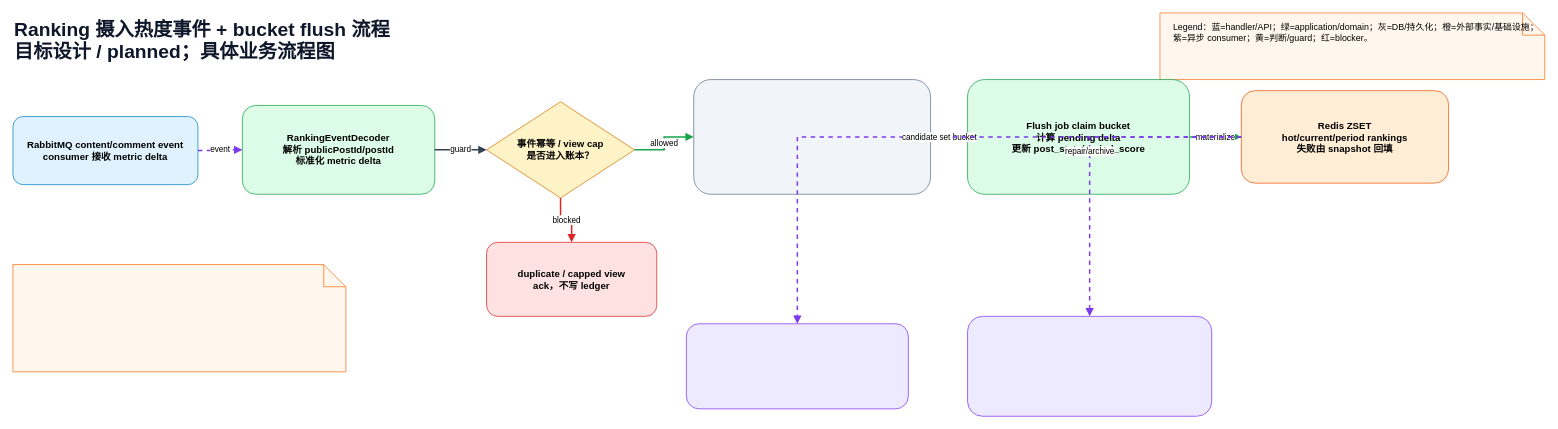
Image size: 1558x429. Some labels were removed from this diagram. Here are the shapes that lost their labels. From the top down, the centre of each, then its label:
point 812,136: PostgreSQL transaction ranking_event_ledger insert ranking_delta_bucket upsert
point 179,318: 关键约束 事件 payload 必须表达 delta，不能传当前总数快照。 晚到事件只能应用 pending delta，不能重复刷整桶。
point 797,366: Comment 同步 hot candidates 只消费候选集，不拥有分数公式
point 1089,366: Snapshot / rebuild / archive 从 PostgreSQL 重建 Redis 冷数据写 Mongo archive
